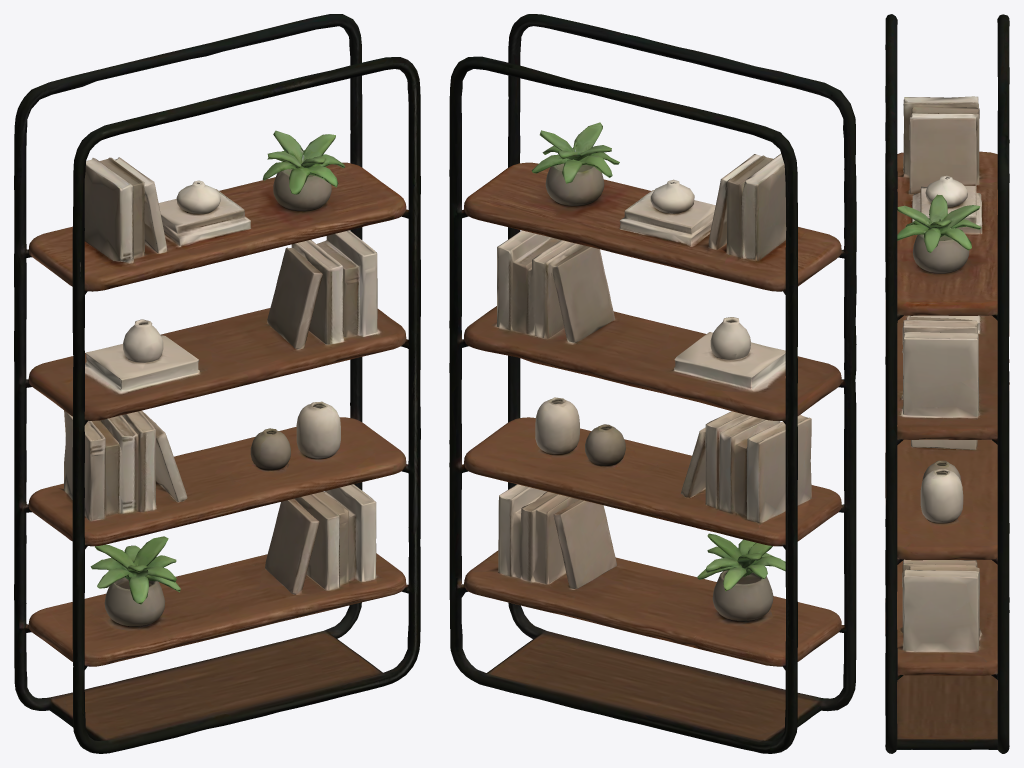
Rendered from 28-estante.glb.
3 renders of one model, left to right at view 1: azimuth 30°, elevation 25°; view 2: azimuth 150°, elevation 25°; view 3: azimuth 270°, elevation 25°, orthographic. The views are drawn at different scales.
Parts seen in each view (by area): view 1: tripo_node_e5b7603d-85e1-43a6-9ef9-d2c1f57a51e2; view 2: tripo_node_e5b7603d-85e1-43a6-9ef9-d2c1f57a51e2; view 3: tripo_node_e5b7603d-85e1-43a6-9ef9-d2c1f57a51e2.
Part boxes in pixels (x1,y1,x2,y2): tripo_node_e5b7603d-85e1-43a6-9ef9-d2c1f57a51e2: (14, 14, 420, 753); tripo_node_e5b7603d-85e1-43a6-9ef9-d2c1f57a51e2: (449, 14, 856, 753); tripo_node_e5b7603d-85e1-43a6-9ef9-d2c1f57a51e2: (885, 14, 1009, 753).
Bounding box in the file's own units: 0.5775 × 1 × 0.1867.
1 material, 1 textured.
